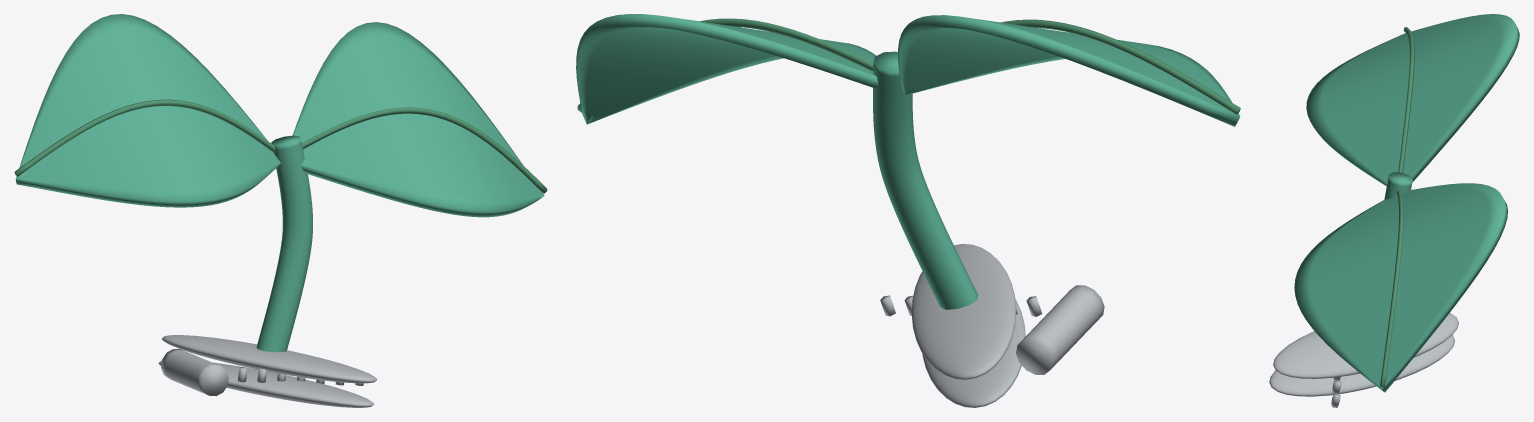
File: Masculine-flow--ears-sprout.glb
The picture shows the model from 3 angles, left to right: view 1: azimuth 30°, elevation 25°; view 2: azimuth 150°, elevation 25°; view 3: azimuth 270°, elevation 25°; orthographic projection. The views are drawn at different scales.
Visible parts, largest first — view 1: 226 extra / Accessory / mint226, 226 extra / Sprout / clip silver235, 226 extra / Sprout / leaf vein235; view 2: 226 extra / Accessory / mint226, 226 extra / Sprout / clip silver235, 226 extra / Sprout / leaf vein235; view 3: 226 extra / Accessory / mint226, 226 extra / Sprout / clip silver235, 226 extra / Sprout / leaf vein235.
Part boxes in pixels (box(x1,y1,x2,y2)): 226 extra / Accessory / mint226: box(15, 14, 544, 352); 226 extra / Sprout / clip silver235: box(158, 335, 376, 407); 226 extra / Sprout / leaf vein235: box(14, 99, 547, 193); 226 extra / Accessory / mint226: box(576, 14, 1240, 309); 226 extra / Sprout / clip silver235: box(880, 244, 1104, 407); 226 extra / Sprout / leaf vein235: box(577, 18, 1240, 114); 226 extra / Accessory / mint226: box(1294, 14, 1519, 392); 226 extra / Sprout / clip silver235: box(1269, 313, 1458, 407); 226 extra / Sprout / leaf vein235: box(1380, 27, 1414, 387).
Bounding box in the file's own units: 0.2635 × 0.1648 × 0.1187.
